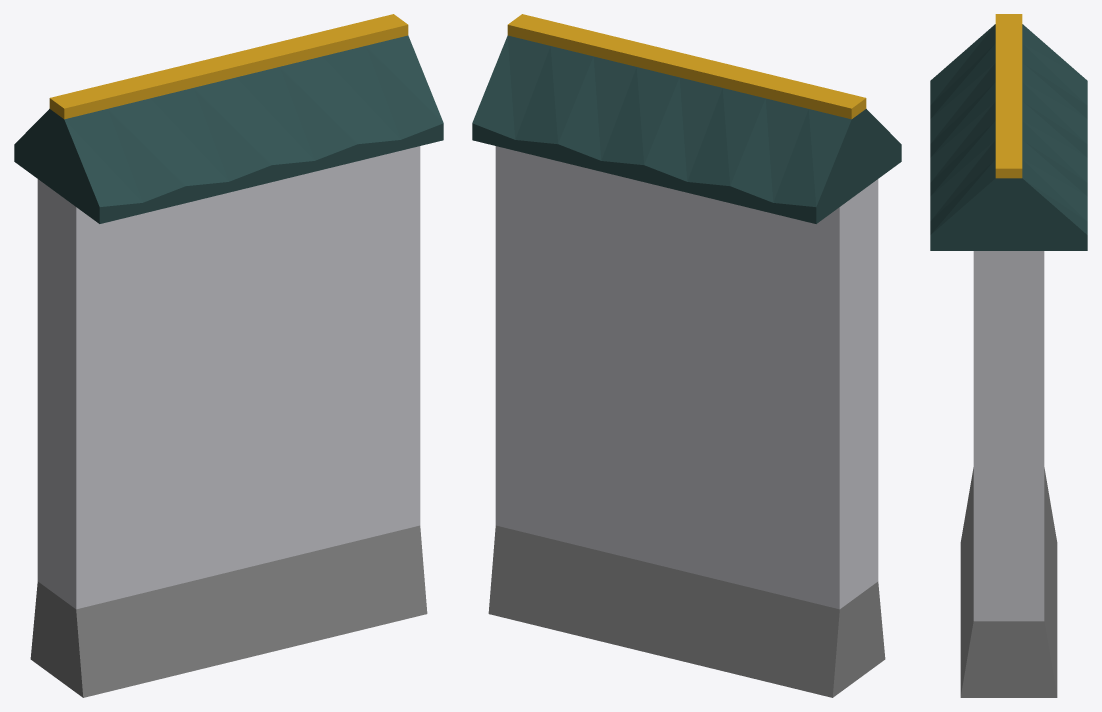
Rendered from Asian_Prop_Building_Fence_Wall_Simple_Small_04.FBX.
3 views of the same model, side by side, from view 1: azimuth 30°, elevation 25°; view 2: azimuth 150°, elevation 25°; view 3: azimuth 270°, elevation 25° (orthographic). The views are drawn at different scales.
Visible parts, largest first — view 1: Asian_Prop_Building_Fence_Wall_Simple_Small_04; view 2: Asian_Prop_Building_Fence_Wall_Simple_Small_04; view 3: Asian_Prop_Building_Fence_Wall_Simple_Small_04.
Boxes of the visible parts, bbox=[...] form: Asian_Prop_Building_Fence_Wall_Simple_Small_04: bbox=[14, 14, 443, 697]; Asian_Prop_Building_Fence_Wall_Simple_Small_04: bbox=[472, 14, 901, 697]; Asian_Prop_Building_Fence_Wall_Simple_Small_04: bbox=[930, 14, 1087, 697].
Size of the model in its own units: 2584 by 4128 by 1112.
